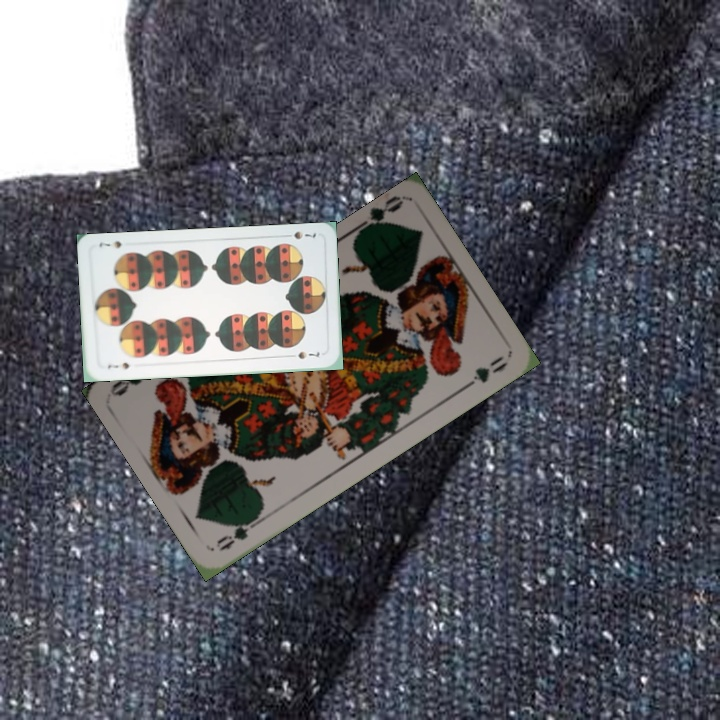GO: (351, 193, 405, 237), (212, 510, 266, 554)
S7: (280, 227, 318, 241), (103, 358, 132, 372)
